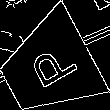P_SW: (19, 39, 78, 96)
